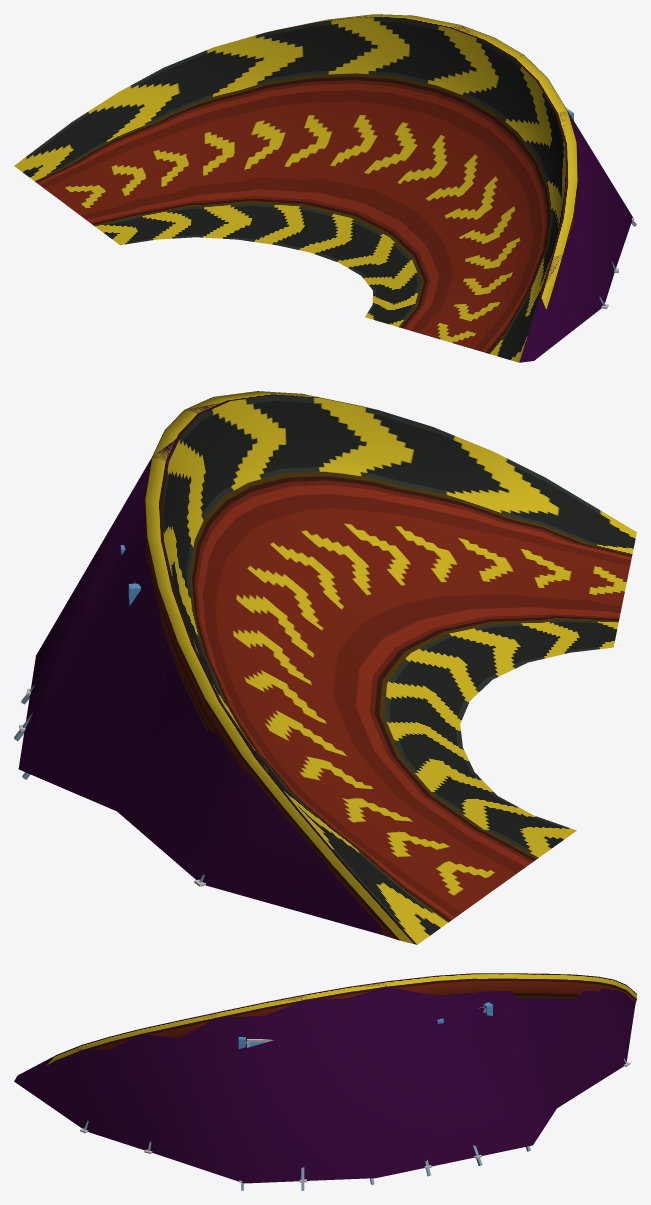
The model's file is Estakada_Circle2_2_0001.FBX.
3 views of the same model, one above another, from view 1: azimuth 30°, elevation 25°; view 2: azimuth 150°, elevation 25°; view 3: azimuth 270°, elevation 25° (orthographic). The views are drawn at different scales.
Parts seen in each view (by area): view 1: Estakada_Circle_2_002, Estakada_Circle_2_001_Calider; view 2: Estakada_Circle_2_002, Estakada_Circle_2_001_Calider; view 3: Estakada_Circle_2_001_Calider, Estakada_Circle_2_002, Estakada_Circle_2_Vox_002.
Boxes of the visible parts, x1,y1,x2,y2 form: Estakada_Circle_2_002: (14, 14, 577, 362); Estakada_Circle_2_001_Calider: (450, 26, 633, 362); Estakada_Circle_2_002: (145, 391, 636, 944); Estakada_Circle_2_001_Calider: (18, 391, 381, 934); Estakada_Circle_2_001_Calider: (14, 982, 635, 1183); Estakada_Circle_2_002: (46, 973, 636, 1065); Estakada_Circle_2_Vox_002: (80, 1002, 630, 1190).
Bounding box in the file's own units: 3.09 × 4.26 × 1.2.
